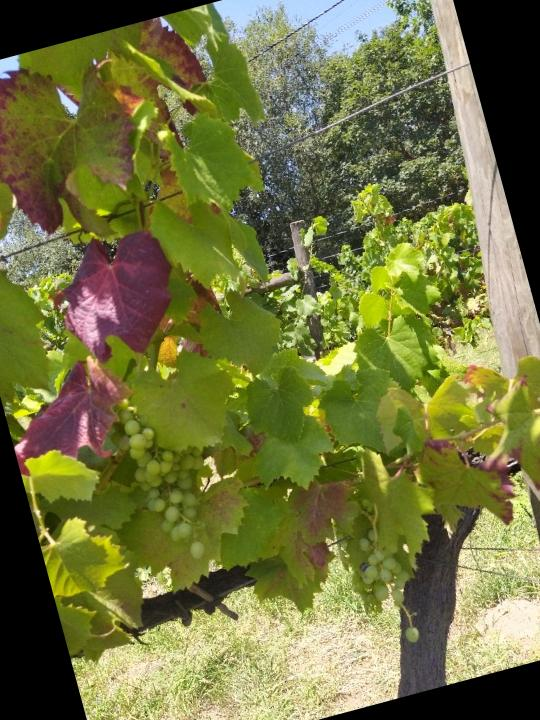grape: (101, 381, 238, 584)
